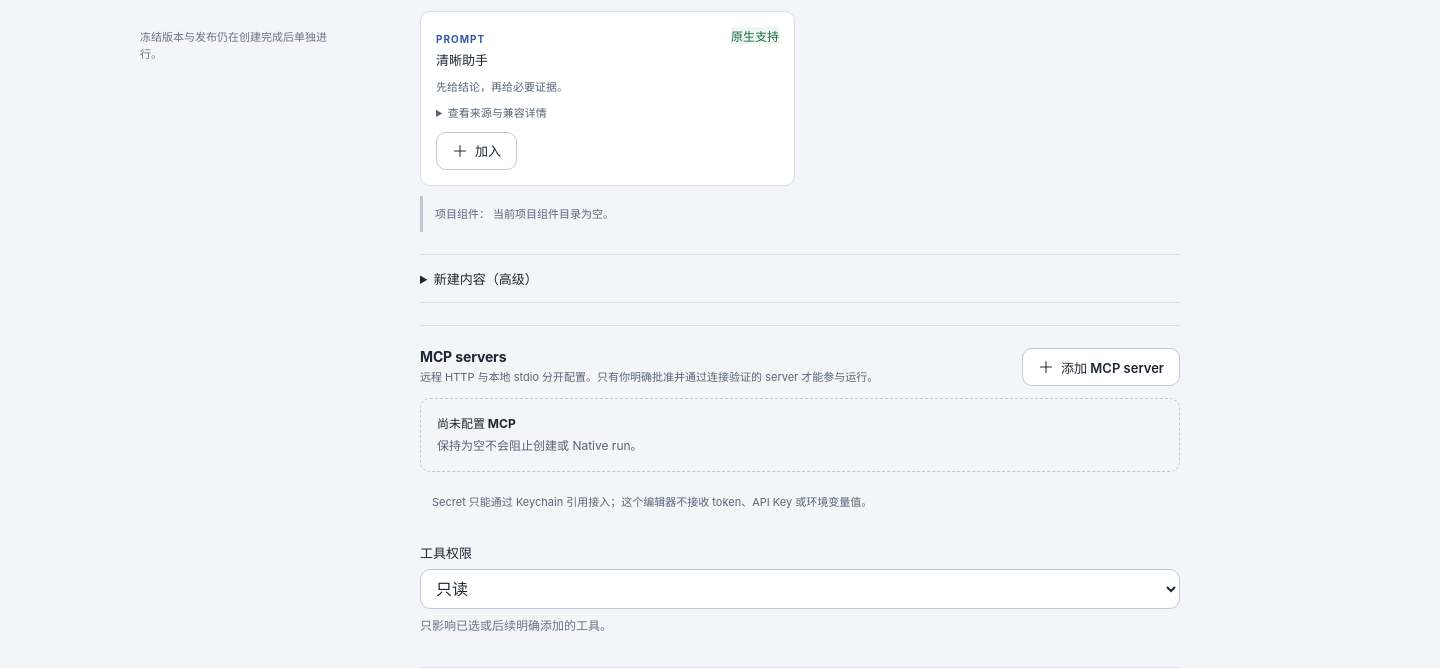
Scenario: AgentBuilderView › configures, explicitly approves, and validates a local stdio MCP without raw JSON
(page scrolled)
Click the button "添加 MCP server".
click(1101, 367)  # box [1022, 348, 1180, 386]
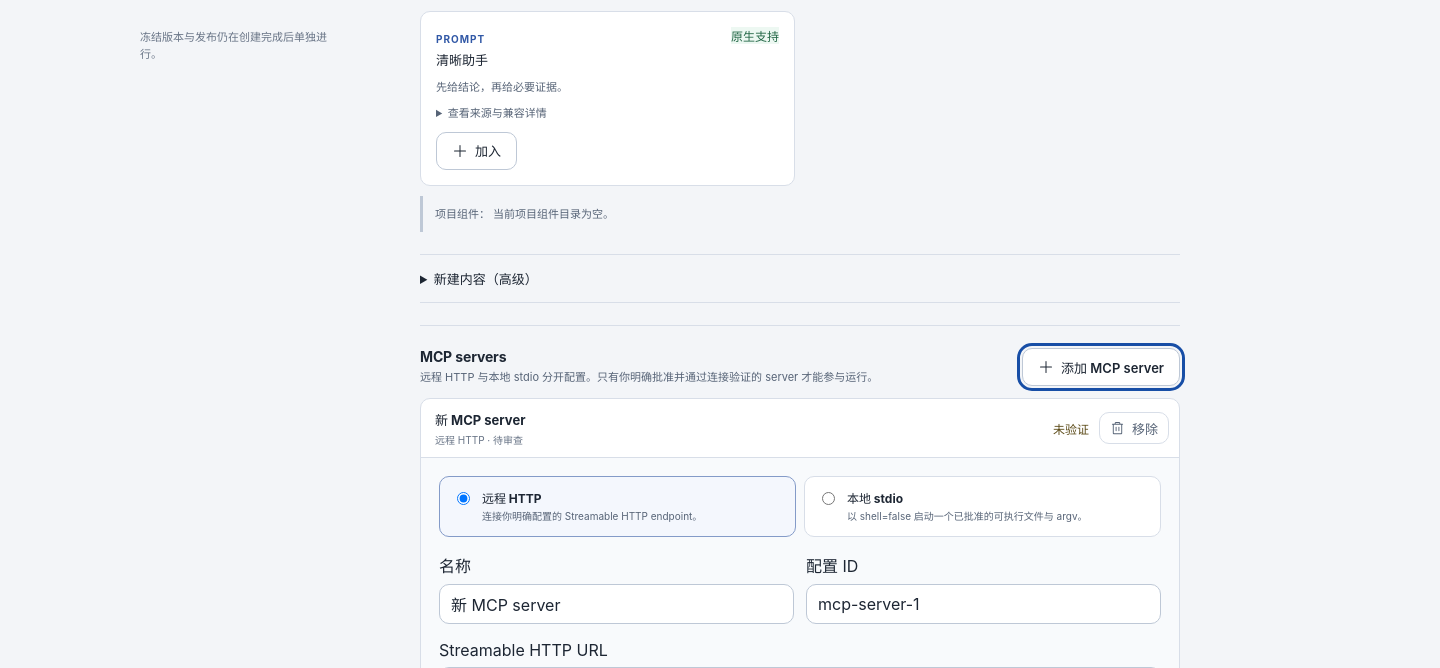
Click the radio button labelled "本地 stdio 以 shell=false 启动一个已批准的可执行文件与 argv。".
click(828, 499)  # box [822, 492, 835, 505]
(page scrolled)
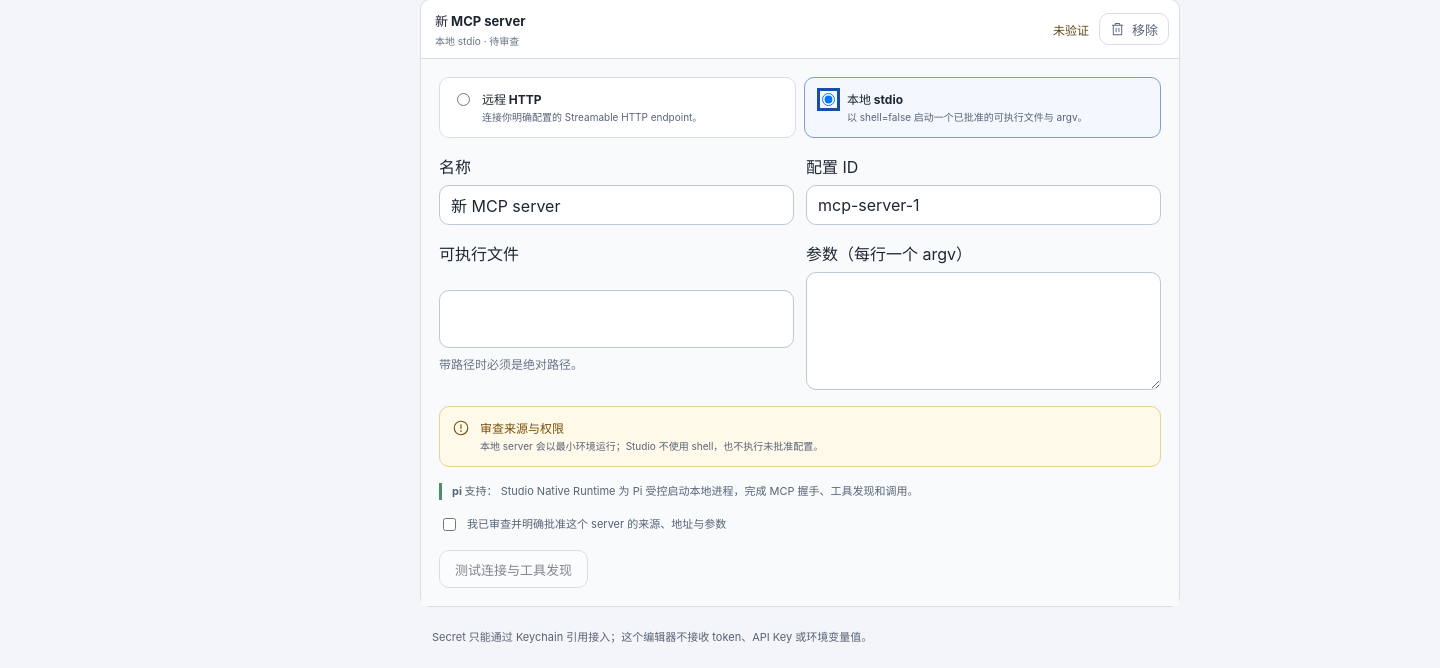
Type "/usr/bin/env" into the field labelled "可执行文件 带路径时必须是绝对路径。".
click(616, 319); type("/usr/bin/env")  # box [439, 290, 794, 348]
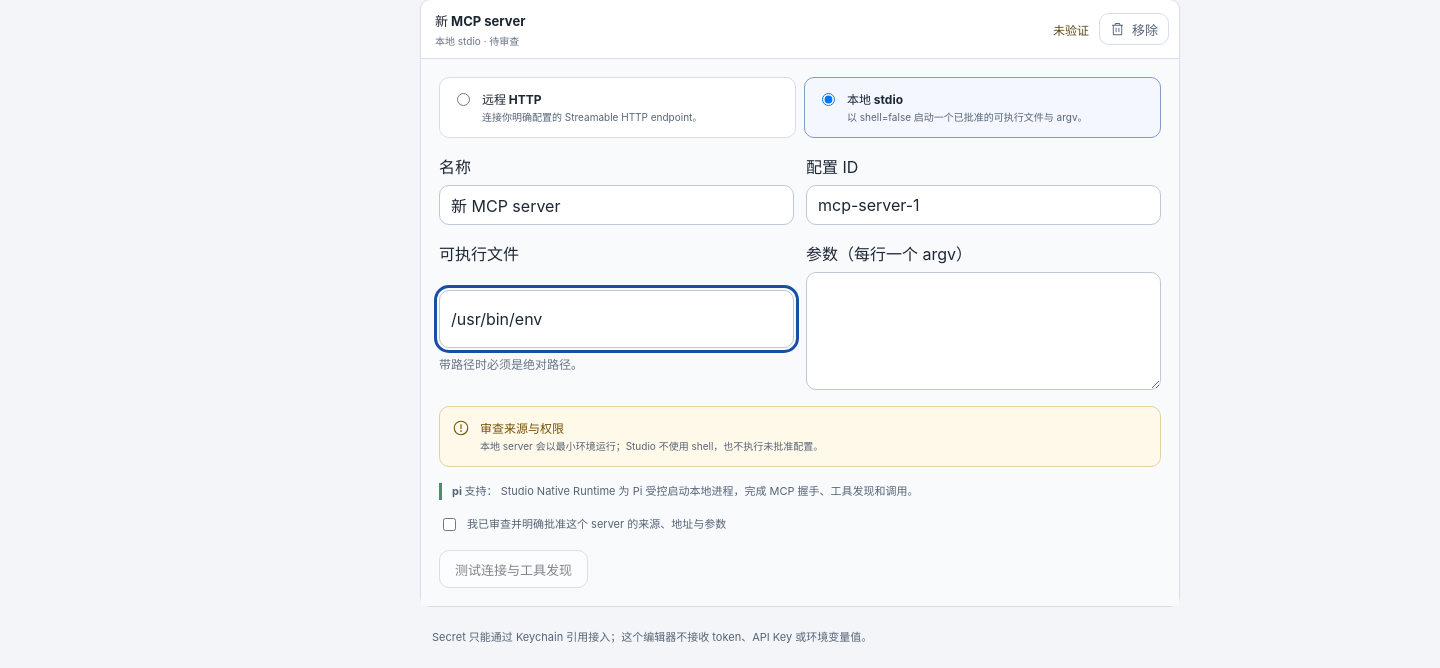
Type "node" into the text box labelled "参数（每行一个 argv）".
click(984, 331); type("node")  # box [806, 272, 1161, 390]
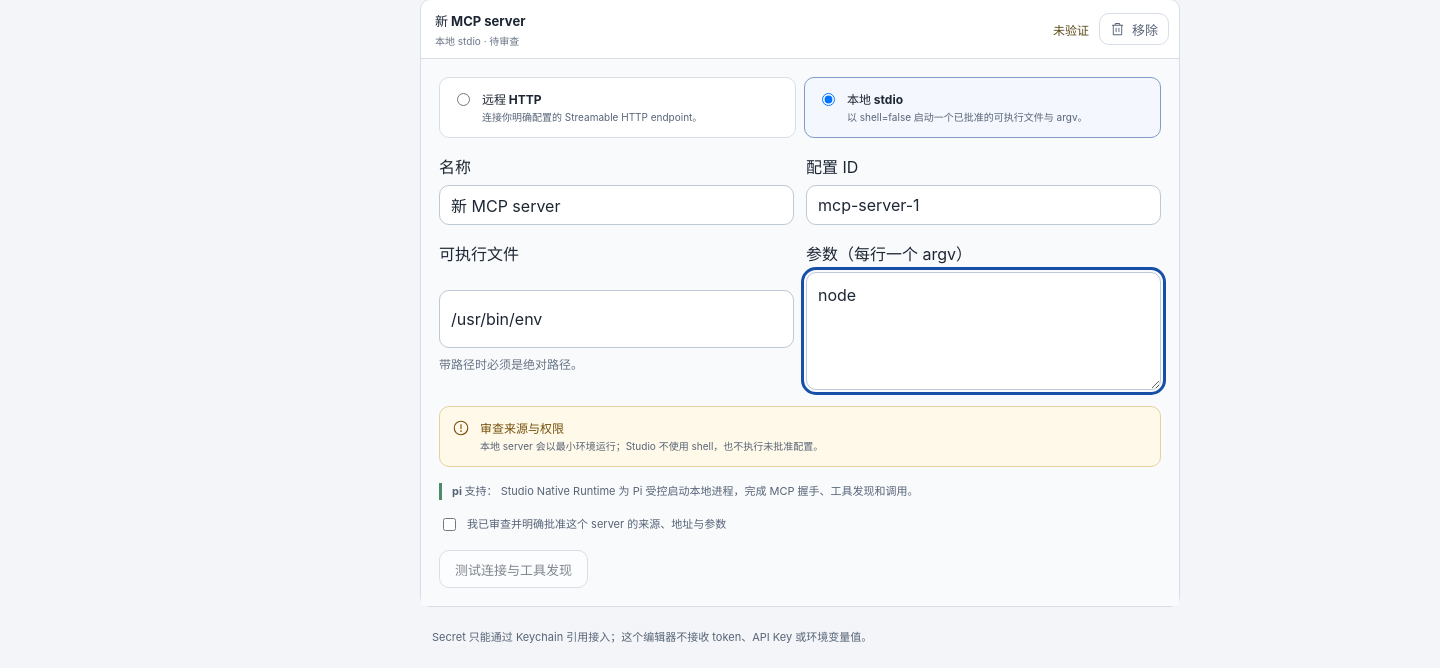
Click the checkbox labelled "我已审查并明确批准这个 server 的来源、地址与参数".
click(450, 525)  # box [443, 518, 456, 531]
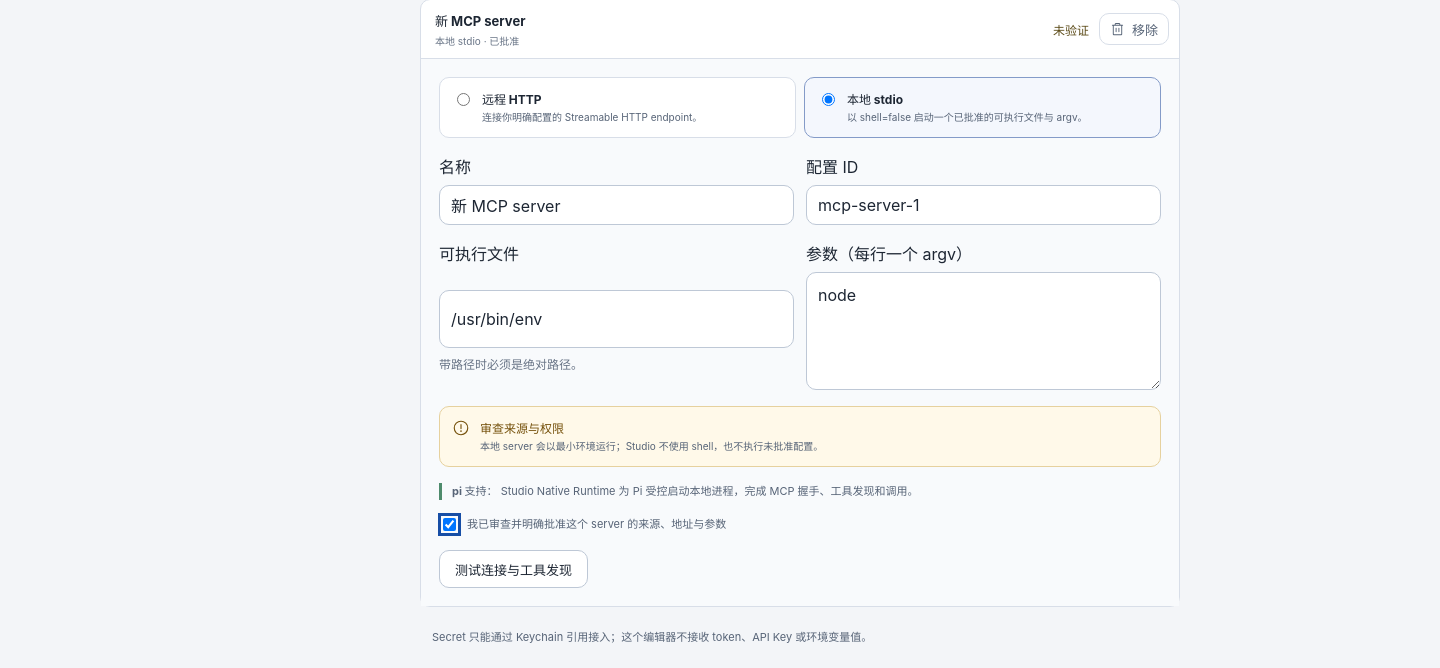
Click the button "测试连接与工具发现".
click(514, 569)  # box [439, 550, 588, 588]
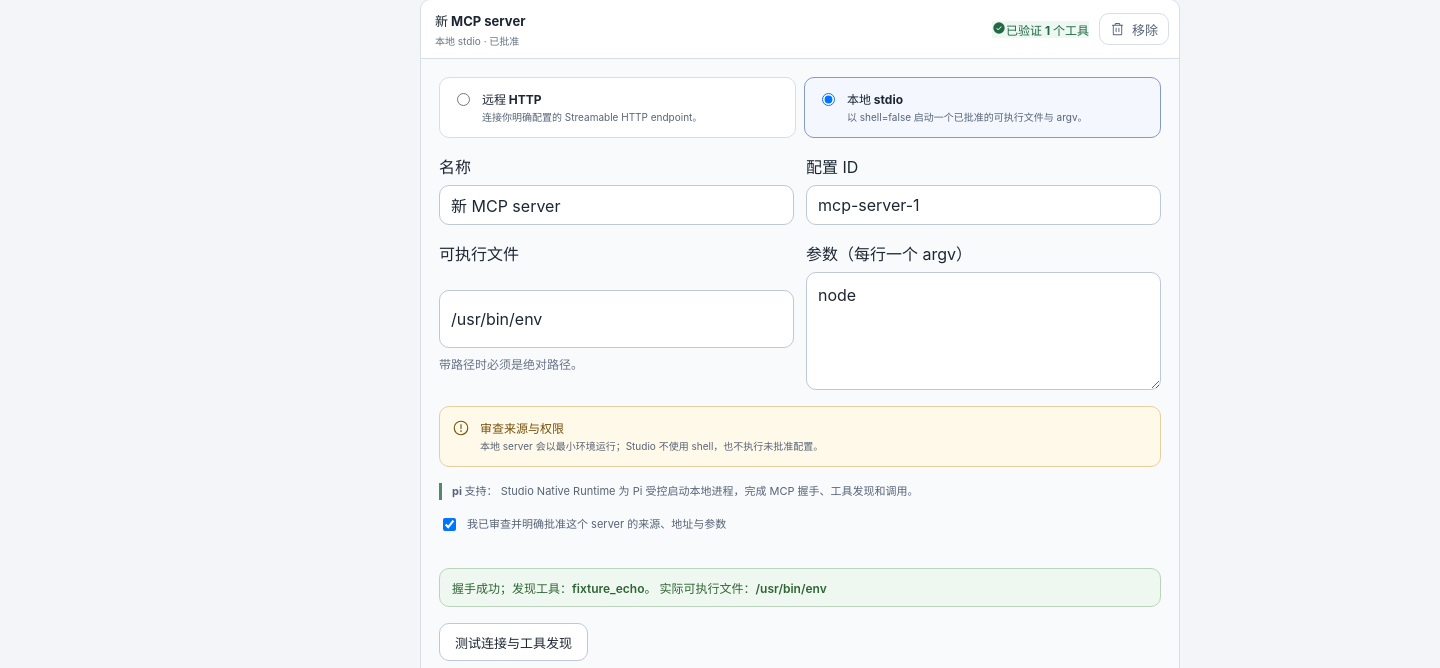
Check: the text "握手成功；发现工具：fixture_echo。 实际可执行文件：/usr/bin/env" is shown, box [439, 568, 1161, 607]
